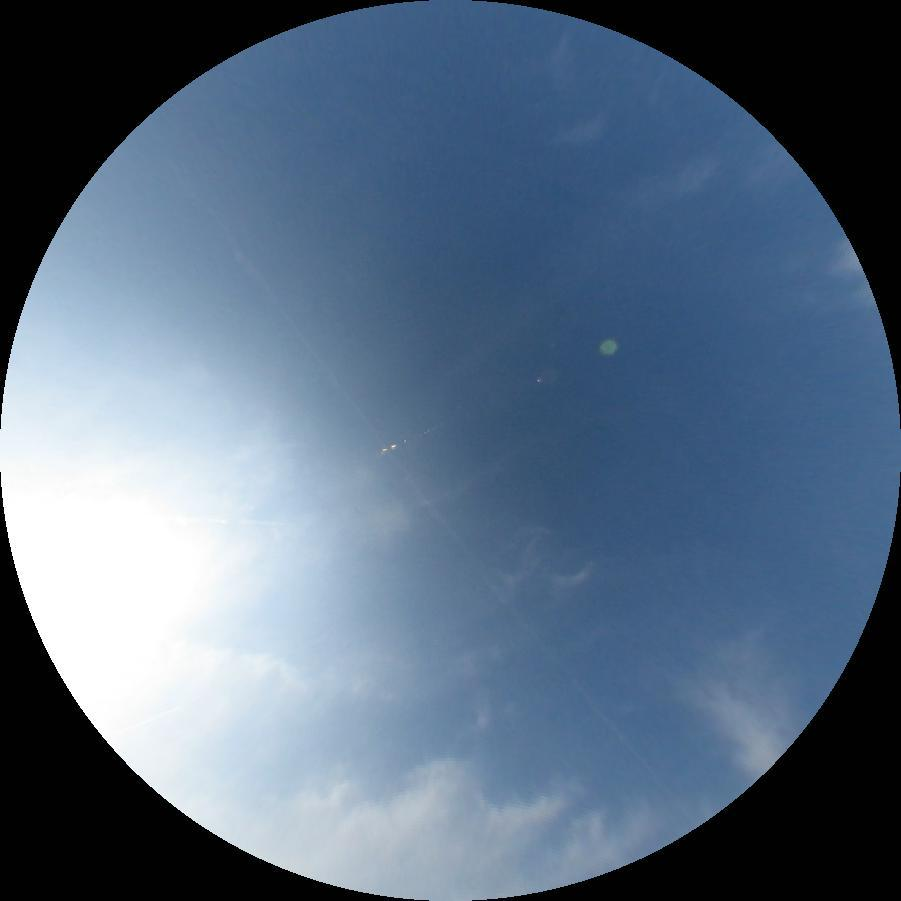contrail old: (188, 199, 658, 786)
contrail young: (110, 697, 196, 739)
